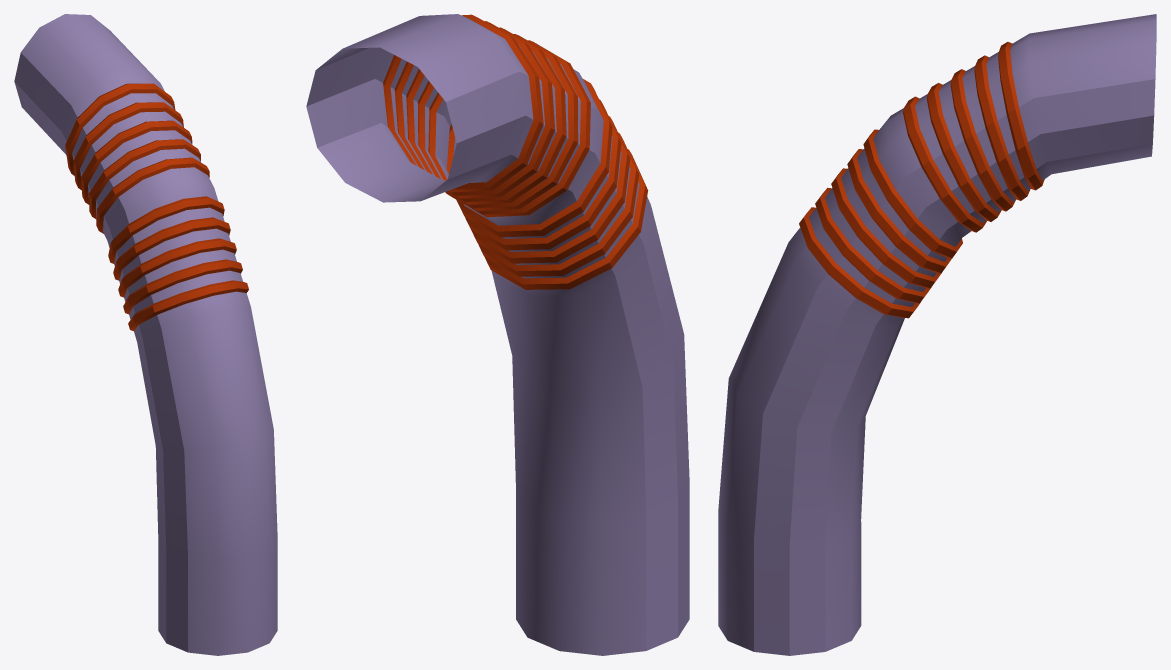
Rendered from Pipe.fbx.
The picture shows the model from 3 angles, left to right: view 1: azimuth 30°, elevation 25°; view 2: azimuth 150°, elevation 25°; view 3: azimuth 270°, elevation 25°; orthographic projection. The views are drawn at different scales.
Parts seen in each view (by area): view 1: generator pipe; view 2: generator pipe; view 3: generator pipe.
Boxes of the visible parts, x1=… form: generator pipe: x1=14, y1=14, x2=277, y2=655; generator pipe: x1=306, y1=14, x2=689, y2=655; generator pipe: x1=718, y1=14, x2=1156, y2=655.
Bounding box in the file's own units: 10.52 × 46.39 × 30.47.
